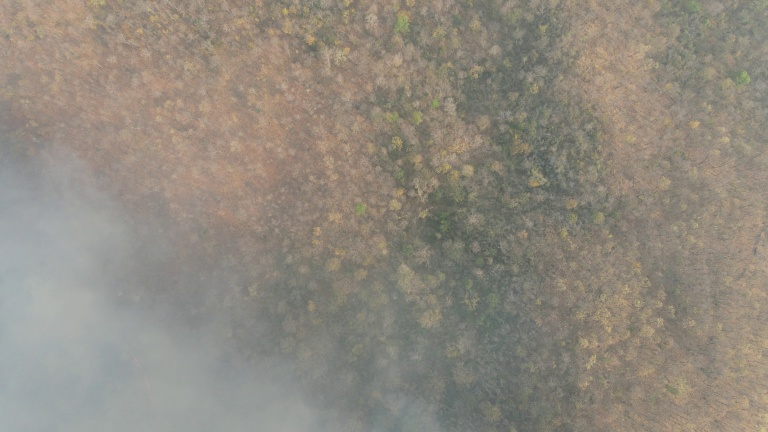fire: (133, 364, 173, 432)
smoke: (7, 170, 317, 432)
